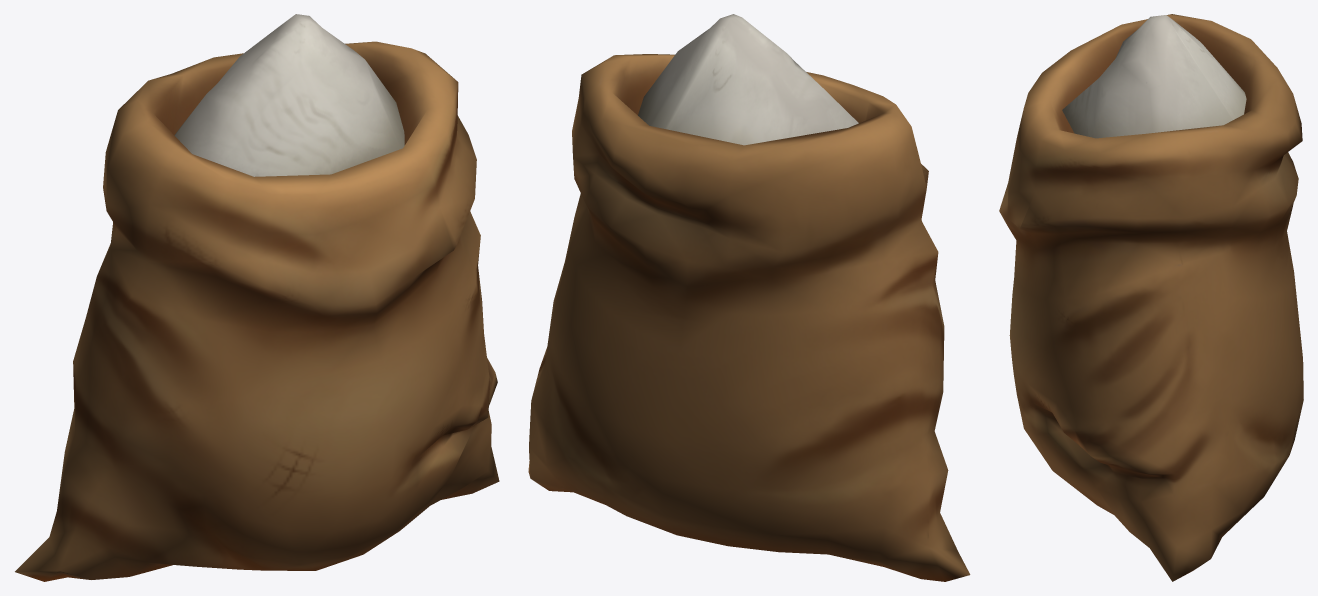
Rendered from flourbag_low.fbx.
3 renders of one model, left to right at view 1: azimuth 30°, elevation 25°; view 2: azimuth 150°, elevation 25°; view 3: azimuth 270°, elevation 25°, orthographic. The views are drawn at different scales.
Parts seen in each view (by area): view 1: flourbag_low, flour; view 2: flourbag_low, flour; view 3: flourbag_low, flour.
Part boxes in pixels (left/top/right/bottom): flourbag_low: left=15, top=41, right=499, bottom=581; flour: left=174, top=14, right=404, bottom=176; flourbag_low: left=528, top=54, right=970, bottom=581; flour: left=638, top=14, right=858, bottom=145; flourbag_low: left=999, top=14, right=1303, bottom=581; flour: left=1062, top=15, right=1246, bottom=138.
Bounding box in the file's own units: 58.12 × 61.55 × 35.51.
